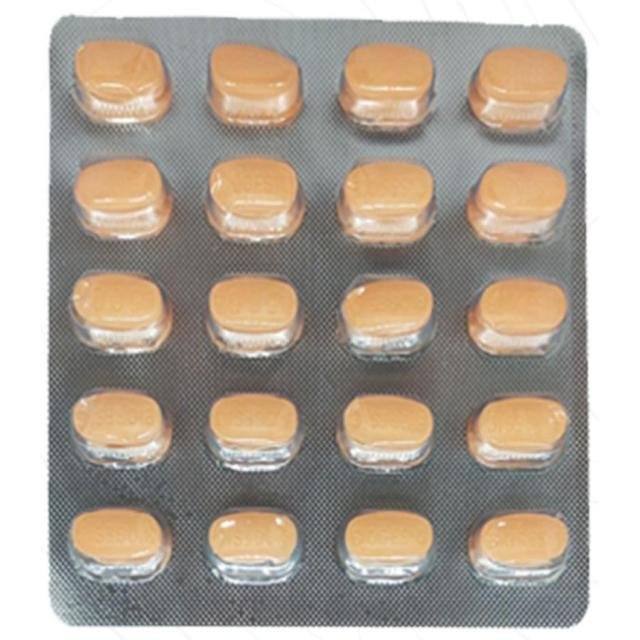blister: (44, 12, 594, 635)
